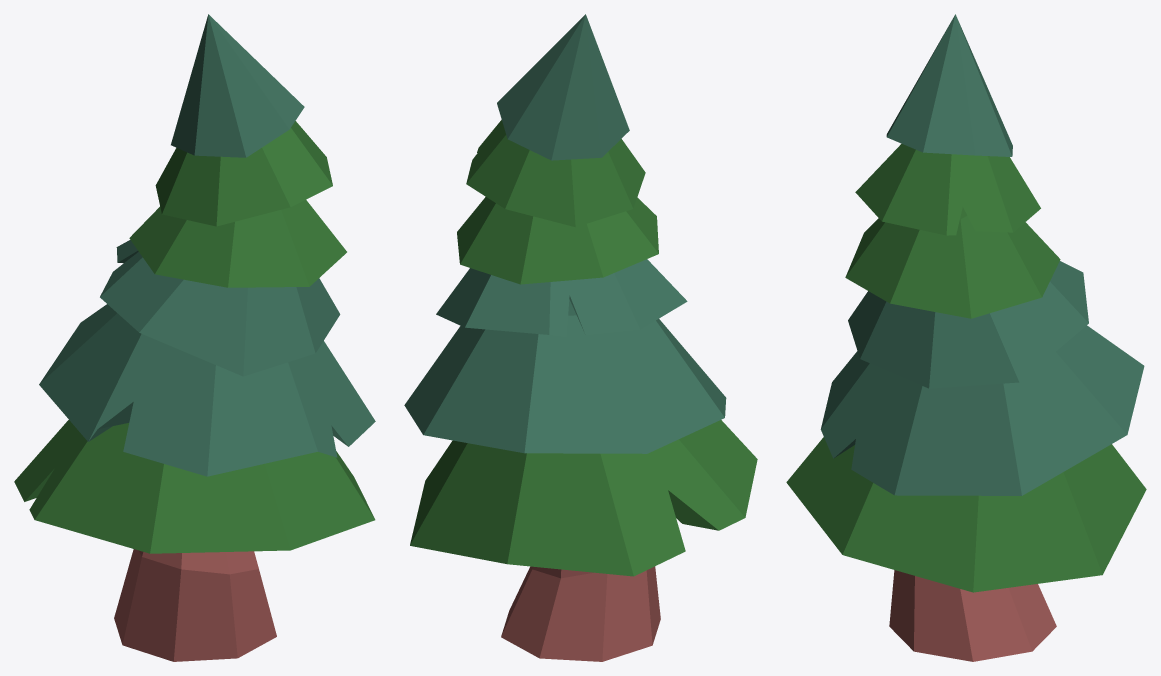
Rendered from evergreen_3.fbx.
3 renders of one model, left to right at view 1: azimuth 30°, elevation 25°; view 2: azimuth 150°, elevation 25°; view 3: azimuth 270°, elevation 25°, orthographic. The views are drawn at different scales.
Parts seen in each view (by area): view 1: Cylinder.002, Cylinder.001, Cylinder.003, wood, Cylinder.004, Cylinder.005, Cylinder.006; view 2: Cylinder.001, Cylinder.002, wood, Cylinder.004, Cylinder.003, Cylinder.006, Cylinder.005; view 3: Cylinder.002, Cylinder.001, Cylinder.003, Cylinder.004, Cylinder.005, wood, Cylinder.006.
Part boxes in pixels (box(x1,y1,x2,y2)): Cylinder.002: box(39, 304, 375, 476); Cylinder.001: box(14, 420, 375, 553); Cylinder.003: box(100, 240, 340, 376); wood: box(114, 549, 276, 661); Cylinder.004: box(129, 200, 346, 287); Cylinder.005: box(155, 121, 332, 226); Cylinder.006: box(171, 14, 304, 157); Cylinder.001: box(410, 420, 757, 576); Cylinder.002: box(404, 299, 726, 453); wood: box(501, 566, 660, 661); Cylinder.004: box(457, 197, 658, 284); Cylinder.003: box(436, 259, 687, 337); Cylinder.006: box(497, 14, 629, 160); Cylinder.005: box(466, 120, 645, 227); Cylinder.002: box(820, 325, 1144, 495); Cylinder.001: box(786, 437, 1146, 592); Cylinder.003: box(848, 261, 1088, 388); Cylinder.004: box(845, 207, 1060, 318); Cylinder.005: box(855, 143, 1040, 235); wood: box(889, 570, 1056, 661); Cylinder.006: box(886, 14, 1012, 156).
Bounding box in the file's own units: 1850 × 1901 × 3479.
